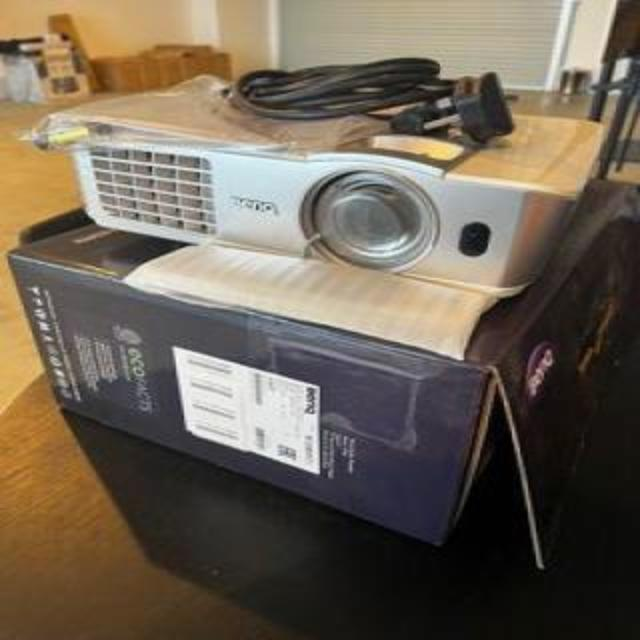Projector: (40, 86, 610, 296)
